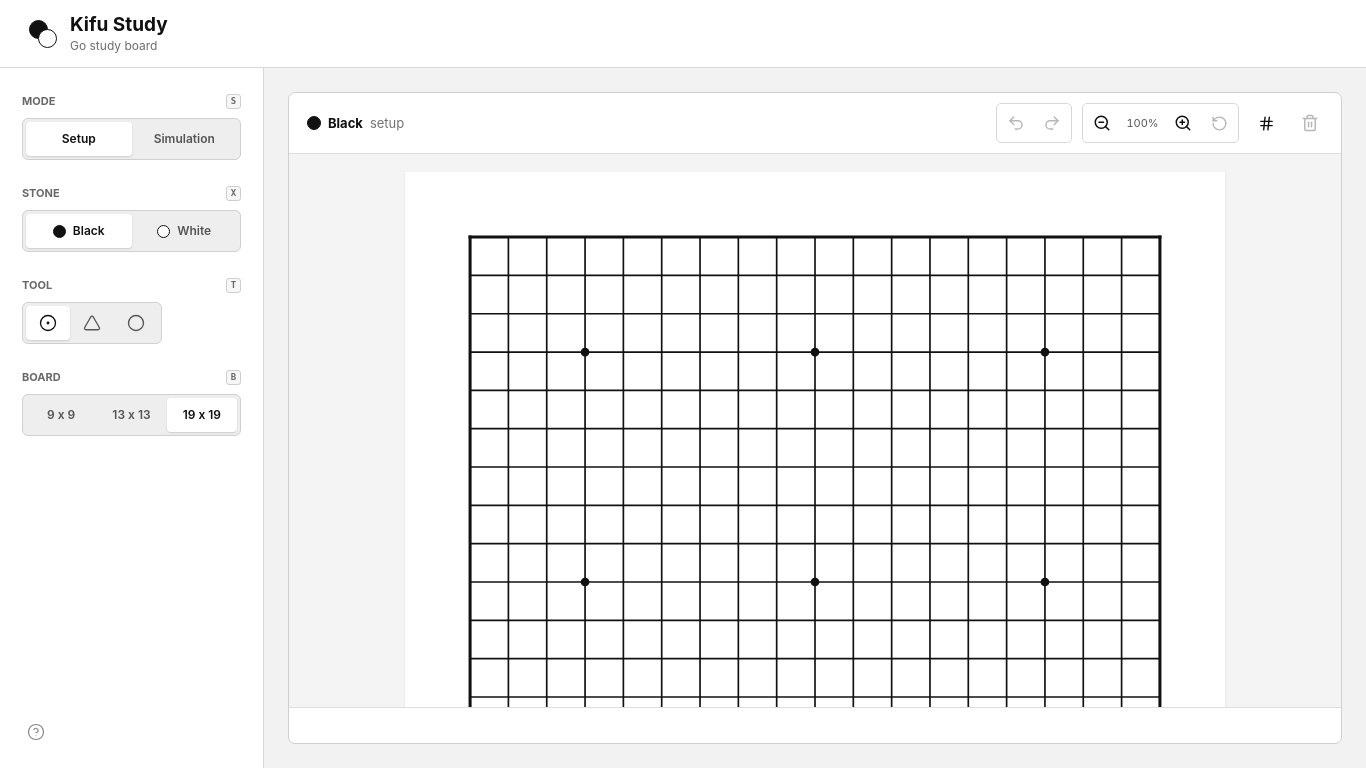
shortcut help › opens, dismisses, and restores focus
Click the button named "Keyboard shortcuts" at (36, 732), box [18,714,54,750]
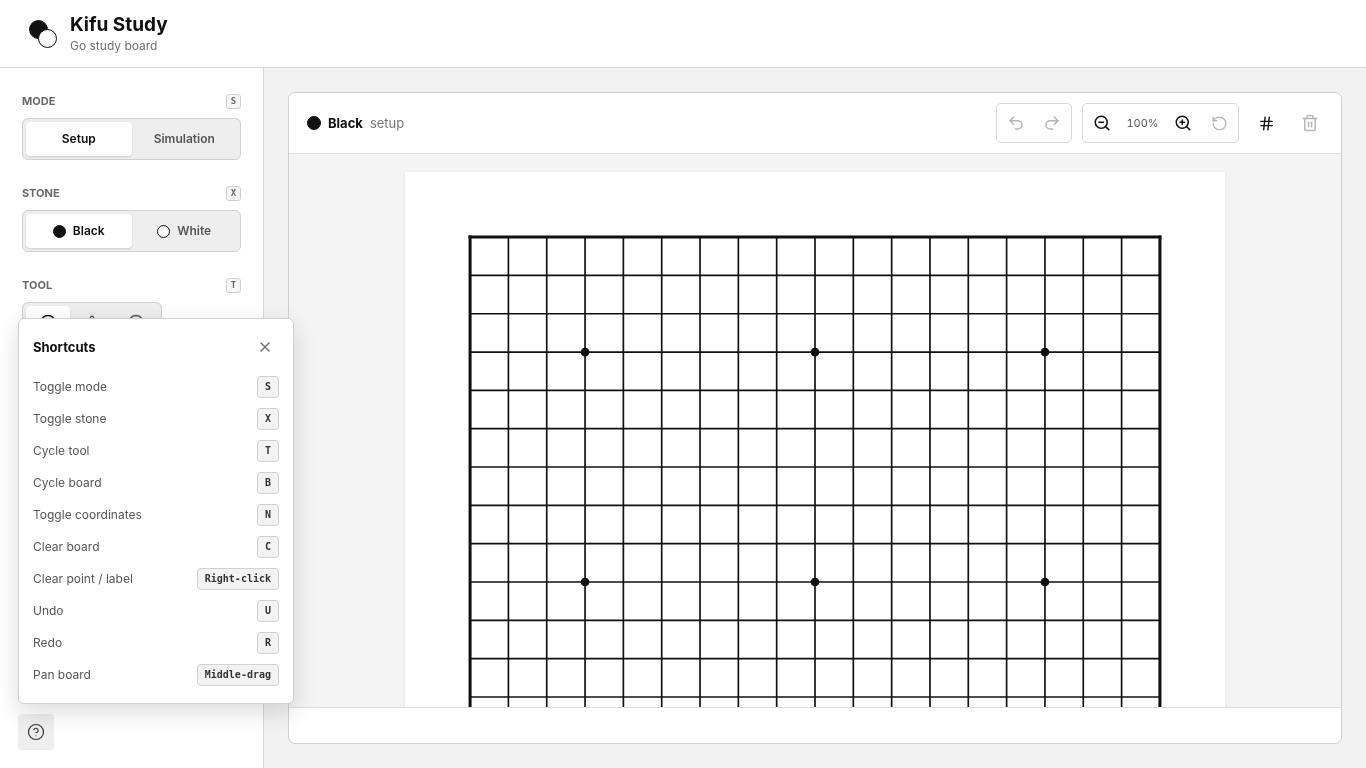
Check: the text "S" next to "Toggle mode" is shown, box [265,381,271,392]
Check: the text "X" next to "Toggle stone" is shown, box [265,413,271,424]
Check: the text "N" is shown, box [257,504,279,526]
Press a
Check: the dialog is shown, box [18,318,294,704]
Click the button named "Close shortcuts" at (265, 347), box [251,333,279,361]
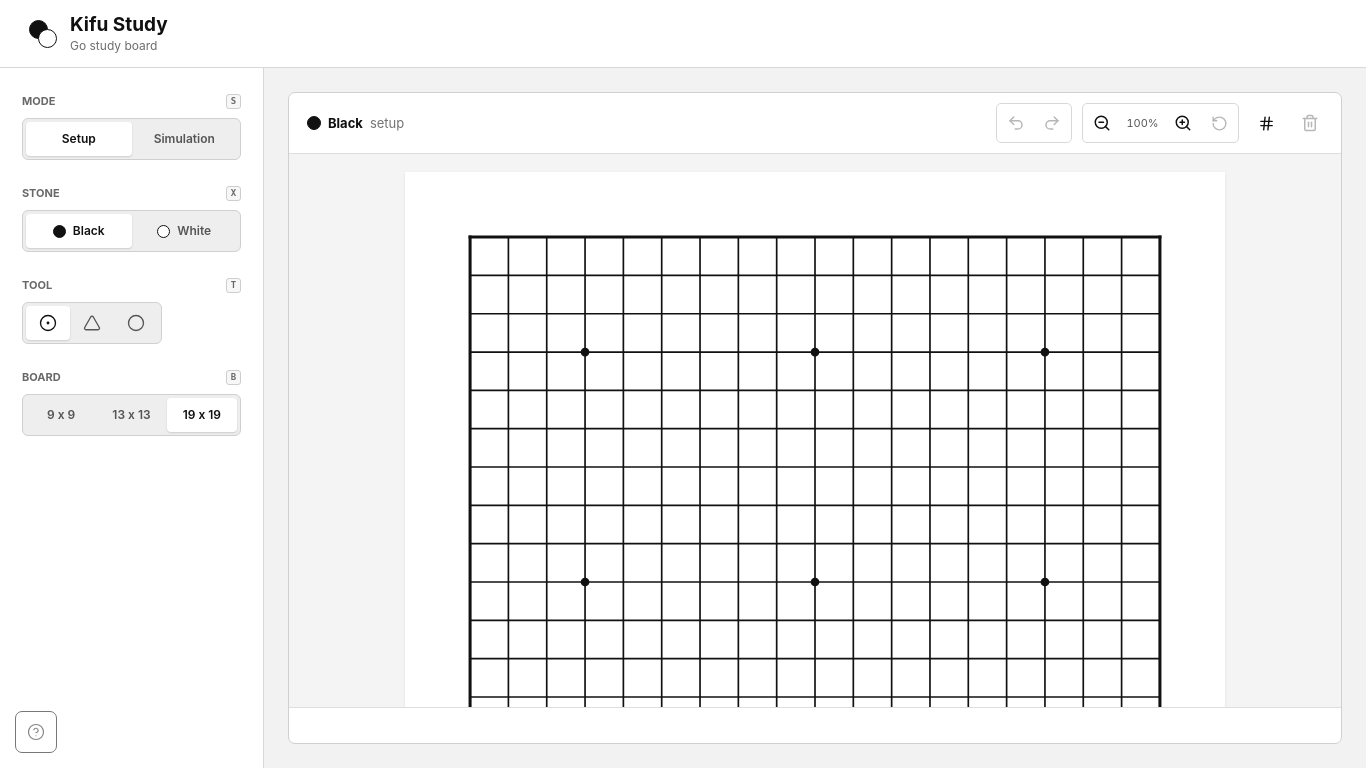
Check: the dialog is gone
Click the button named "Keyboard shortcuts" at (36, 732), box [18,714,54,750]
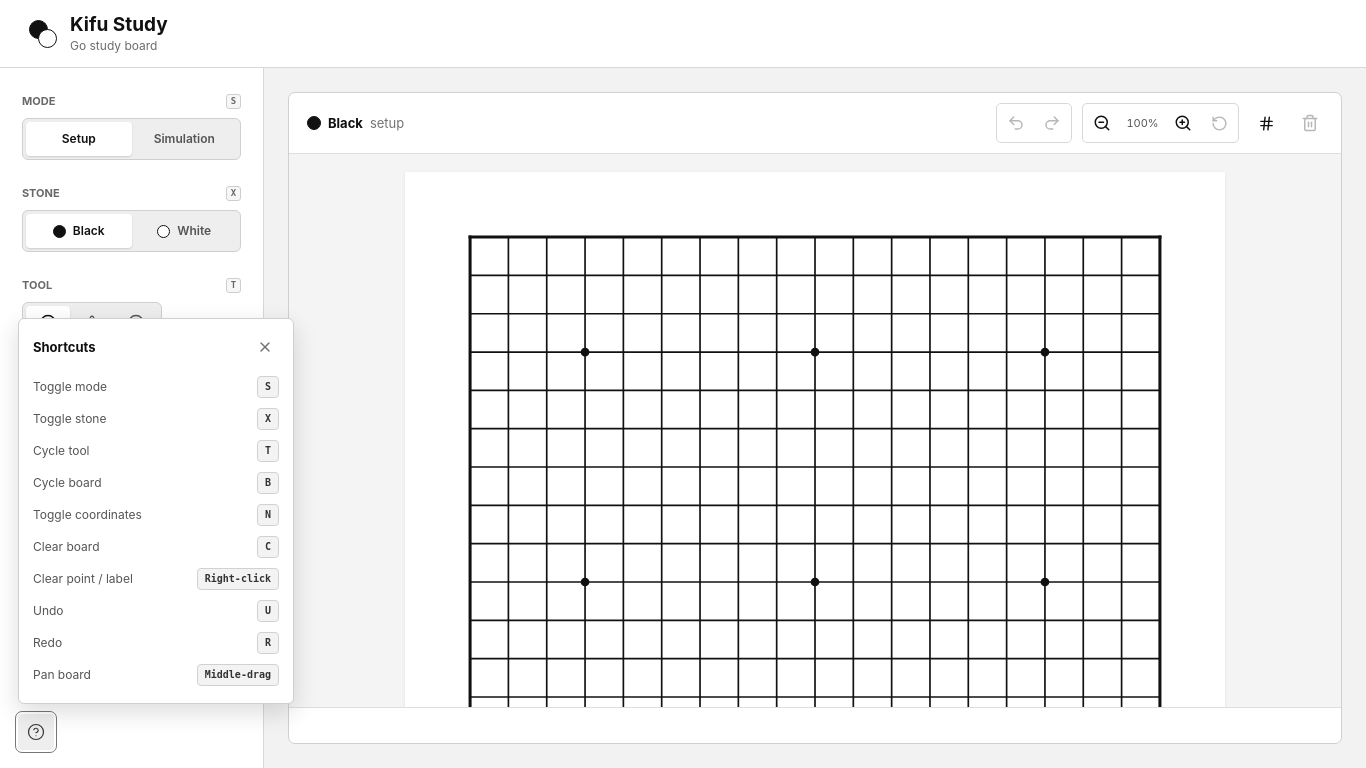
Press Escape
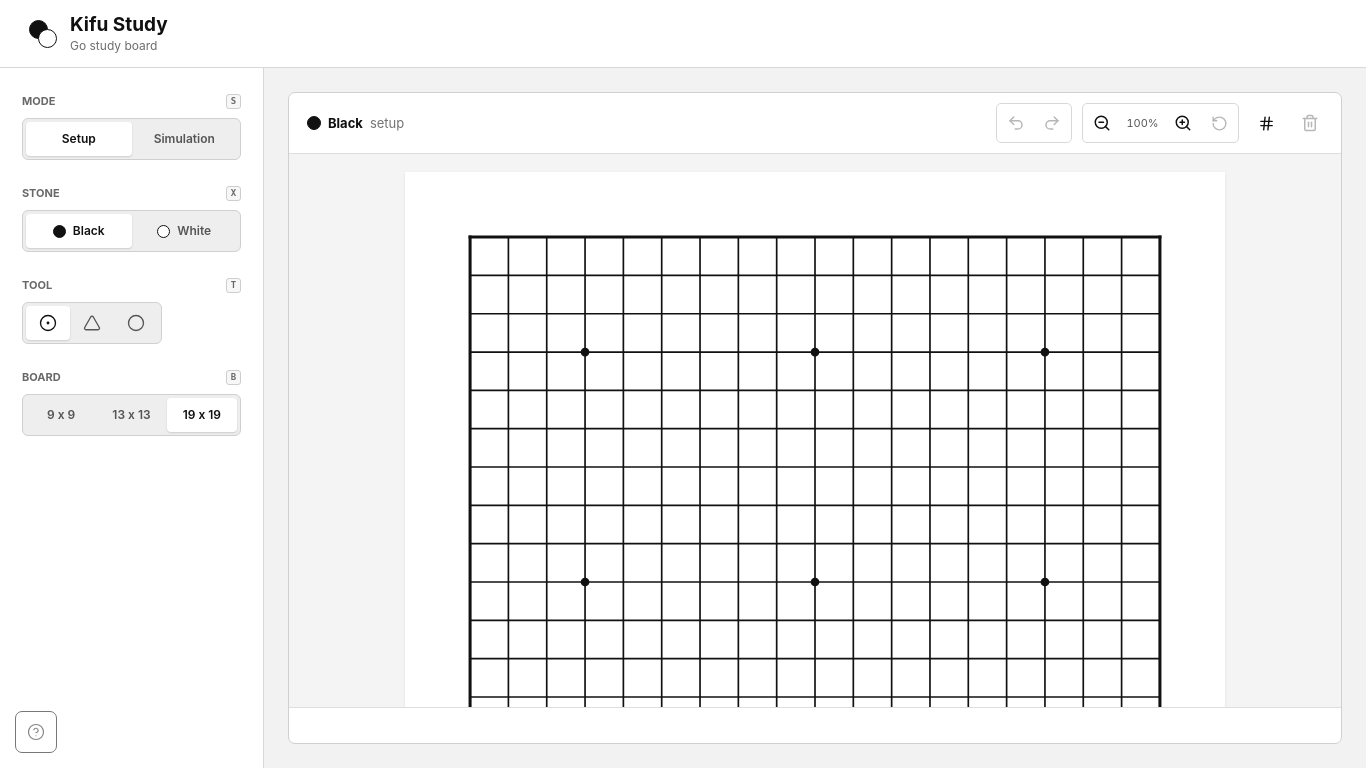
Check: the dialog is gone
Click the button named "Keyboard shortcuts" at (36, 732), box [18,714,54,750]
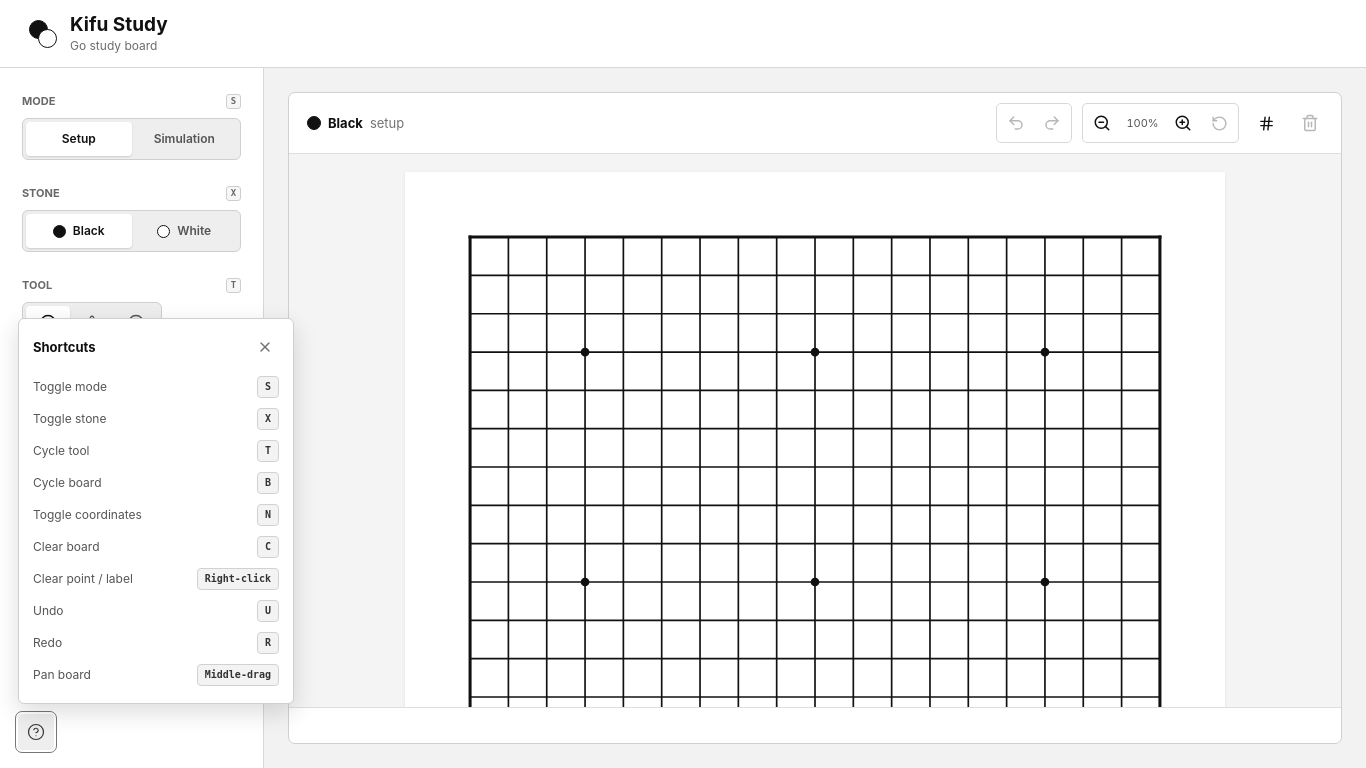
Press the mouse on the element that starts with "Kifu Study" at (683, 384), box [0,0,1365,767]
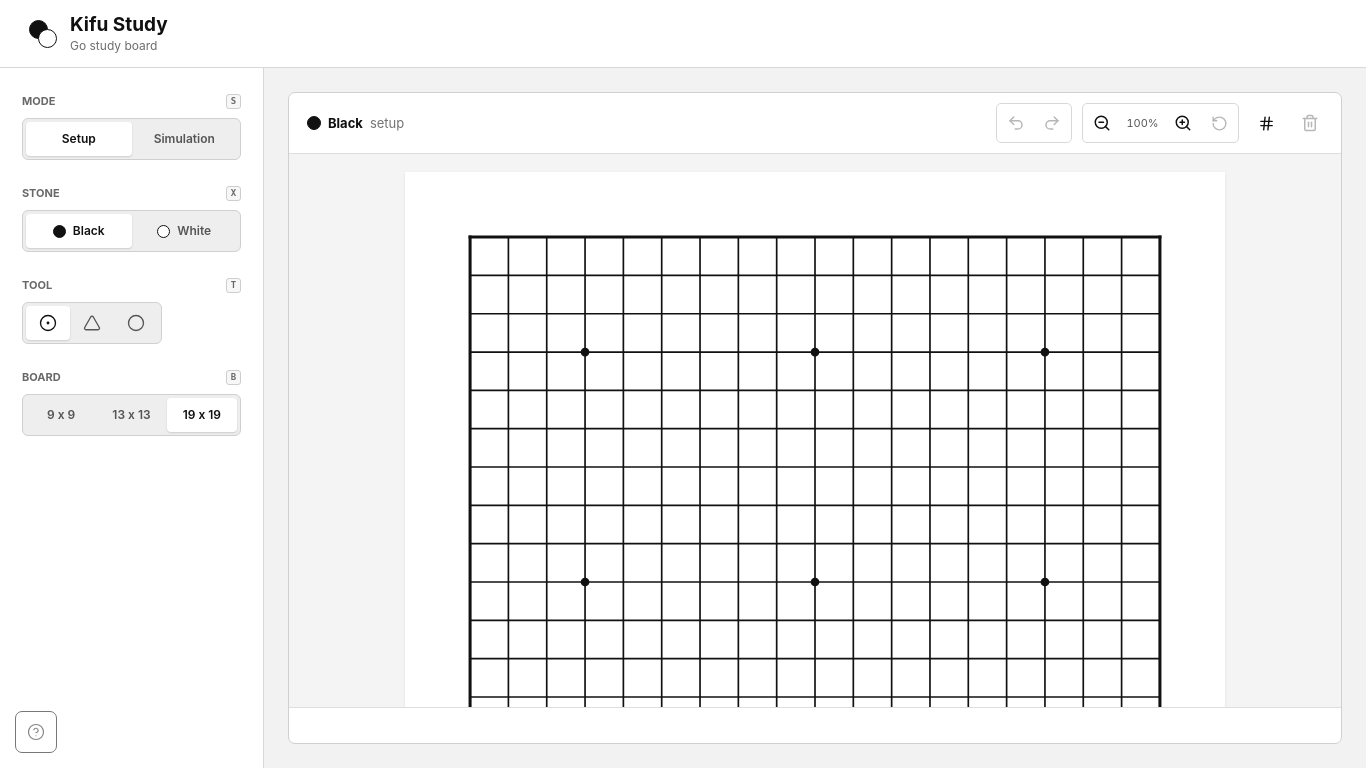
Check: the dialog is gone
